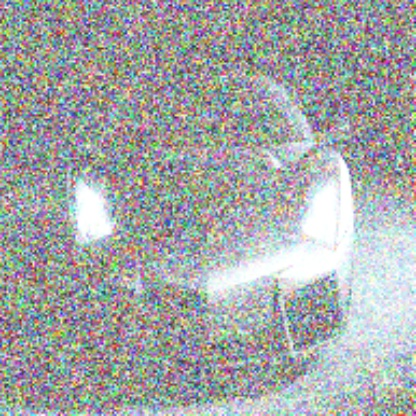Vehicle: (64, 68, 356, 376)
